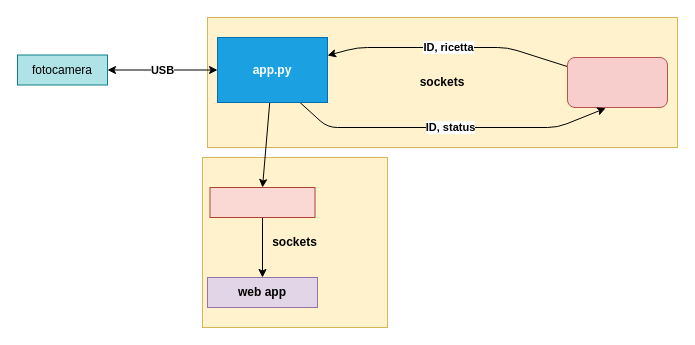
This 695x345 diagram has some shape labels left out. Here are the shapes that lost their labels. From the top down, the centre of each, then its label:
point 617,82: PLC
point 262,202: foto elaborata
